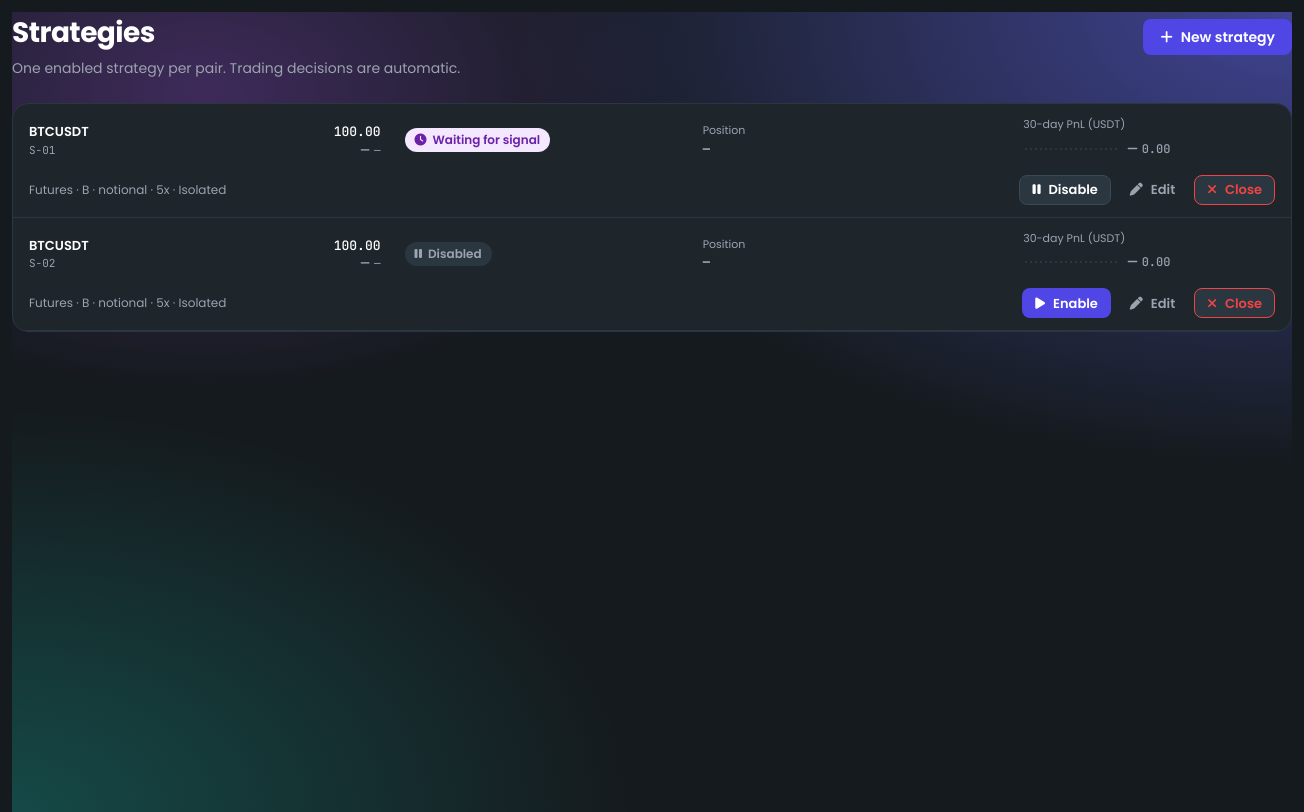
Test: Strategies page › blocks enabling when another strategy on the pair is enabled
This screenshot has width=1304, height=812.
Click the button "Enable": (1067, 303) [1022, 288, 1111, 318]
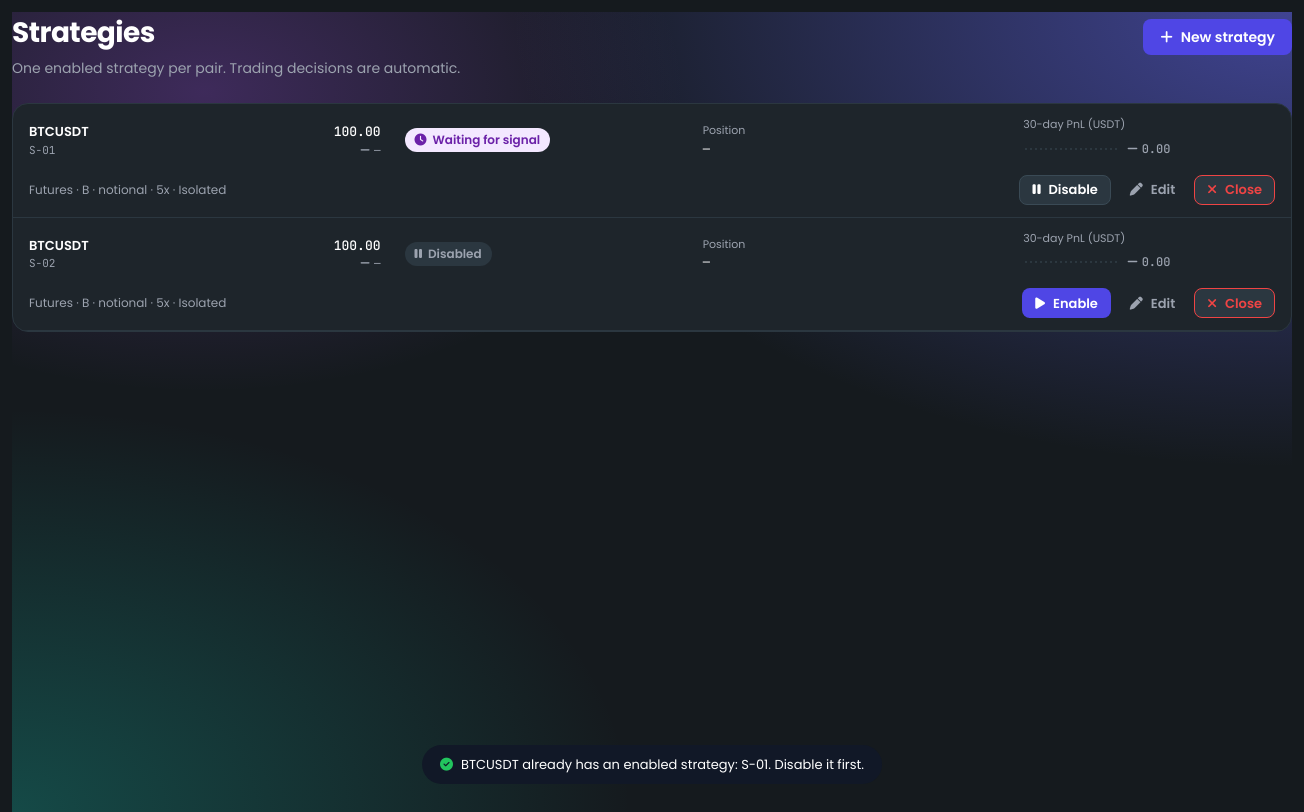
Expected: the text "BTCUSDT already has an enabled strategy: S-01. Disable it first." is shown, [422, 744, 882, 784]
